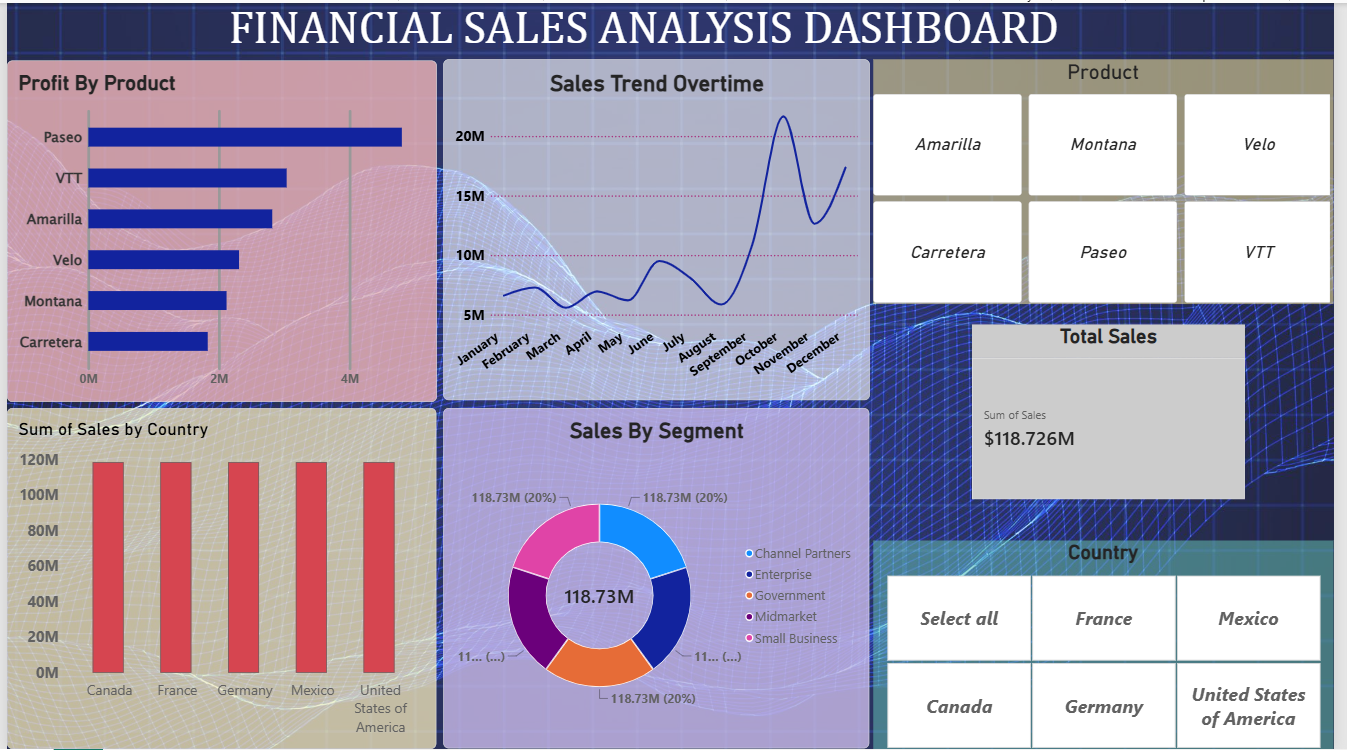

This screenshot's page, from the dashboard's own definition file:
{"tool":"powerbi","page":{"name":"Page 1","canvas":[1920,1080],"ordinal":0},"visuals":[{"type":"cardVisual","title":"Total Sales","fields":{"Data":["Sum(financials. Sales)"]},"box":[1397.6,465.2,395.2,253.2],"z":0},{"type":"clusteredColumnChart","fields":{"Category":["financials.Country"],"Y":["Sum(Sheet1. Sales)"]},"box":[0,586.6,621.6,494],"z":1000},{"type":"clusteredBarChart","title":"Profit By Product","fields":{"Category":["financials.Product"],"Y":["Sum(financials.Profit)"]},"box":[0,83,622,494],"z":2000},{"type":"lineChart","title":"Sales Trend Overtime","fields":{"Category":["financials.Date.Variation.Date Hierarchy.Year","financials.Date.Variation.Date Hierarchy.Quarter","financials.Date.Variation.Date Hierarchy.Month","financials.Date.Variation.Date Hierarchy.Day"],"Y":["Sum(financials. Sales)"]},"box":[631.9,82.3,617.5,494],"z":3000},{"type":"donutChart","title":"Sales By Segment","fields":{"Category":["Sheet1.Segment"],"Y":["Sum(financials. Sales)"]},"box":[632,587,617,493],"z":4000},{"type":"slicer","title":"Country","fields":{"Values":["Sheet1.Country"]},"box":[1254,778,666,302],"z":5000},{"type":"advancedSlicerVisual","fields":{"Values":["Sheet1.Product"]},"box":[1254,82,666,354],"z":6000},{"type":"textbox","title":"FINANCIAL SALES ANALYSIS DASHBOARD","box":[0,0,1844,82],"z":8000}]}

Visuals, with their boxes in screenshot pixels (x1, y1, x2, y2), scaled from the page's 1920x1080 canvas onto the 1347x750 screenshot:
"Total Sales" cardVisual: x1=981, y1=323, x2=1258, y2=499
clusteredColumnChart - financials.Country x Sum(Sheet1. Sales): x1=0, y1=407, x2=436, y2=749
"Profit By Product" clusteredBarChart: x1=0, y1=58, x2=436, y2=401
"Sales Trend Overtime" lineChart: x1=443, y1=57, x2=877, y2=400
"Sales By Segment" donutChart: x1=443, y1=408, x2=876, y2=749
"Country" slicer: x1=880, y1=540, x2=1346, y2=749
advancedSlicerVisual - Sheet1.Product: x1=880, y1=57, x2=1346, y2=303
"FINANCIAL SALES ANALYSIS DASHBOARD" textbox: x1=0, y1=0, x2=1294, y2=57
